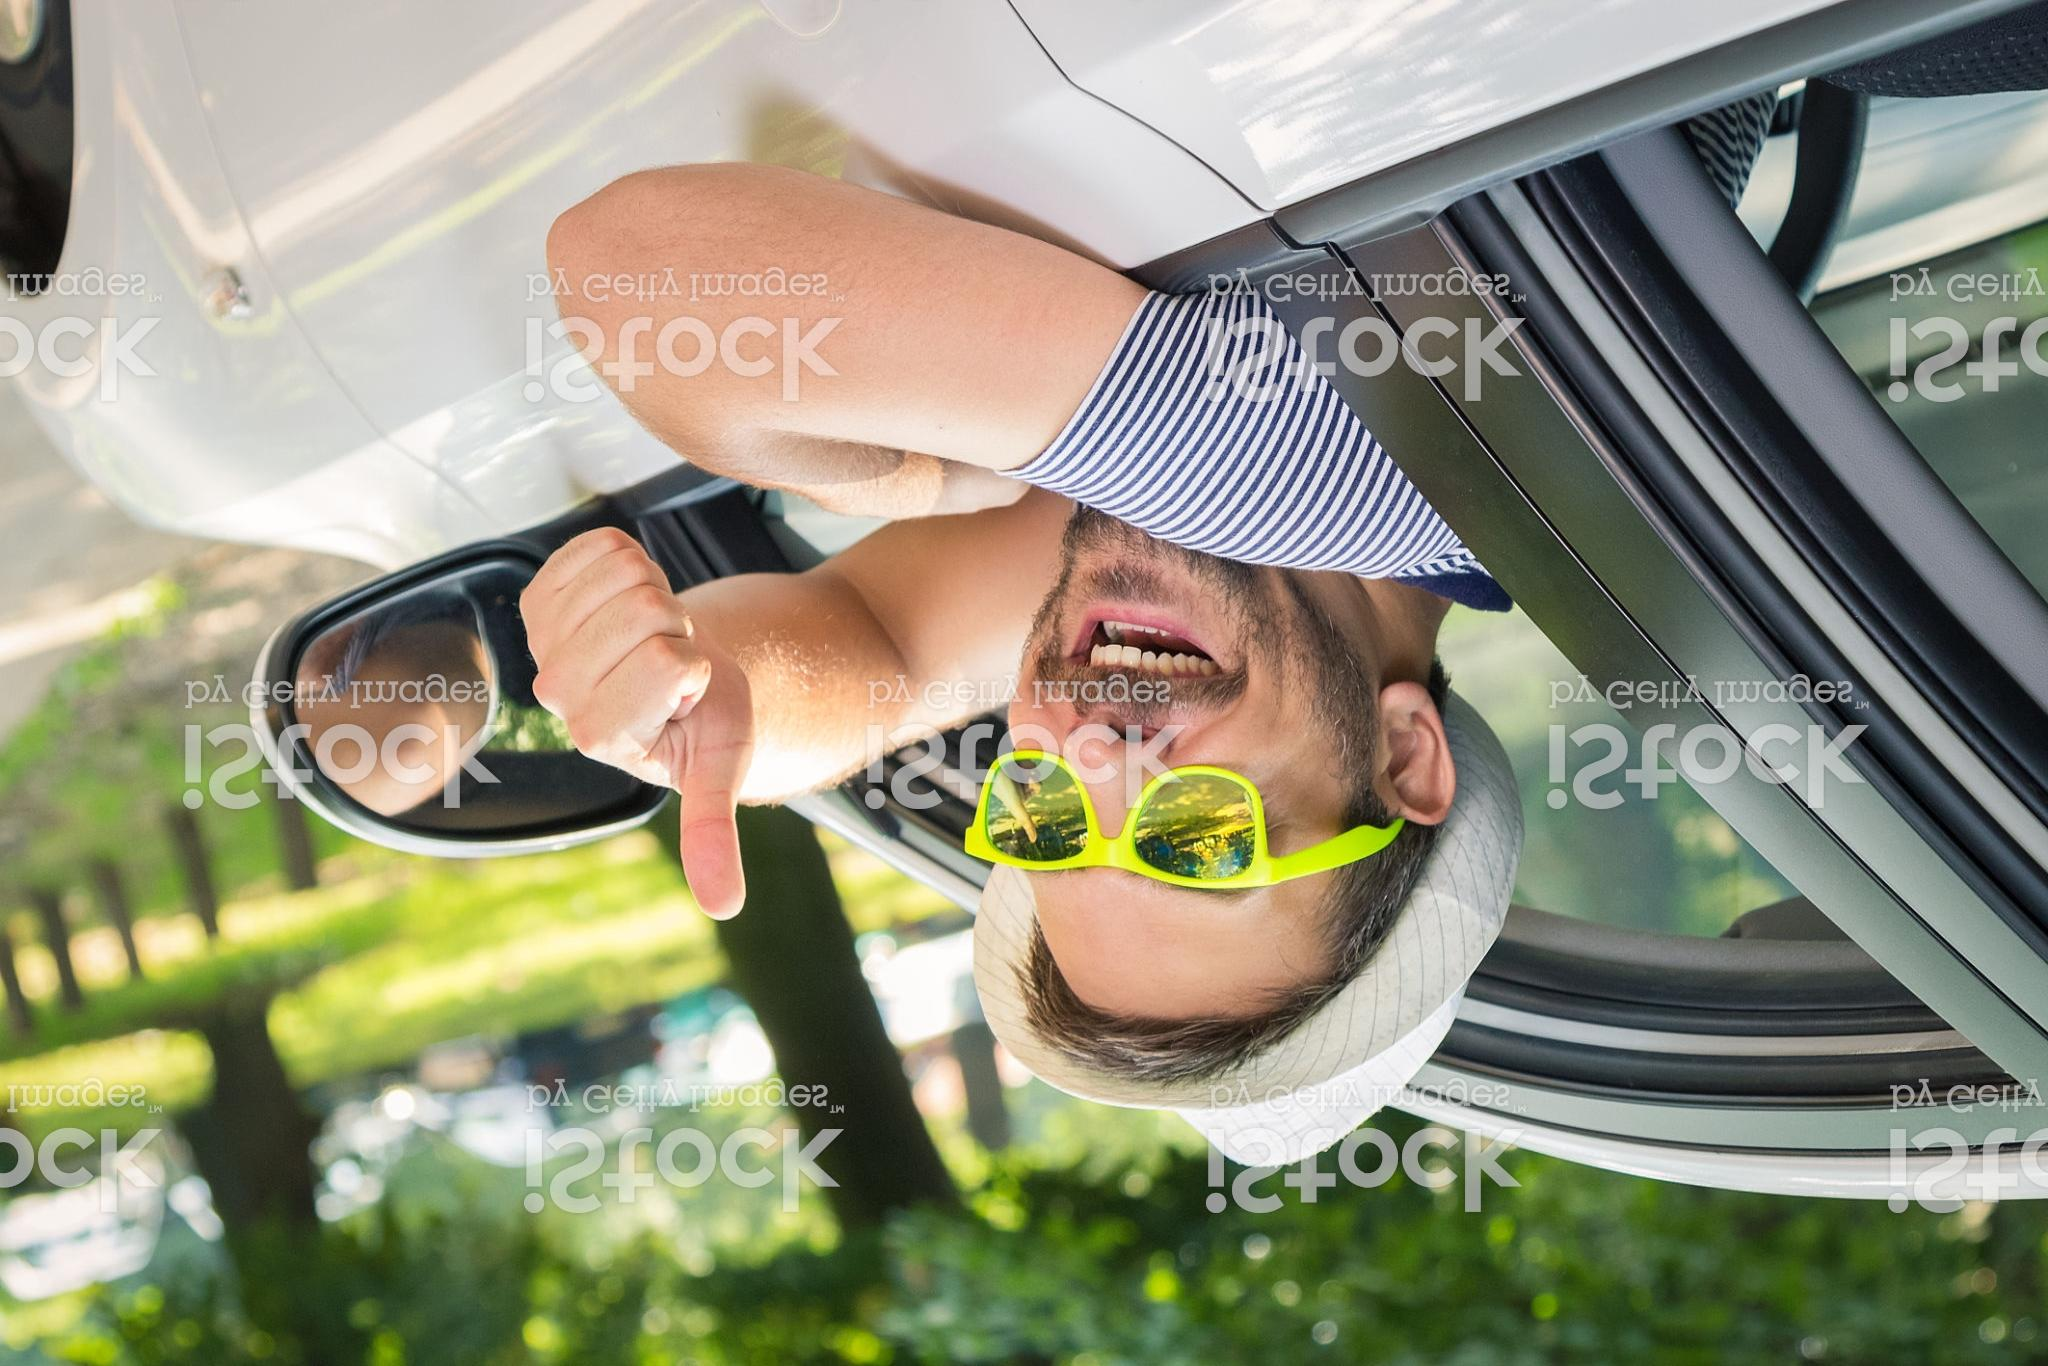thumbsdown: (515, 520, 759, 927)
